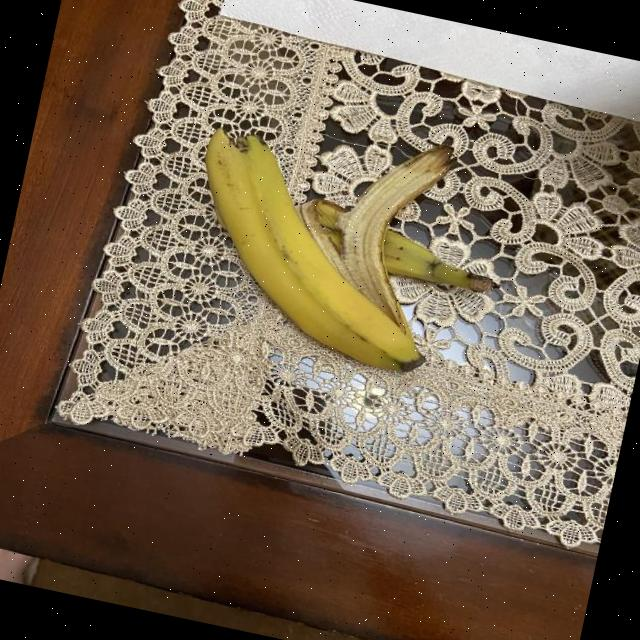banana-peel: (166, 95, 516, 388)
